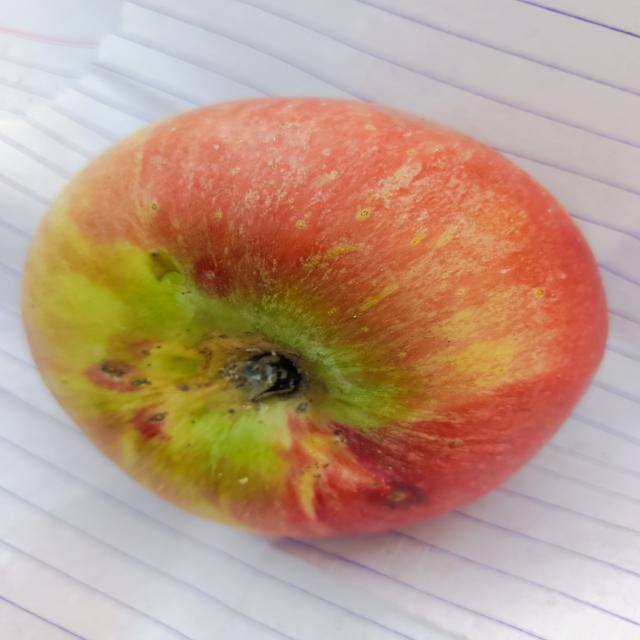Fresh Apple: (21, 95, 606, 538)
